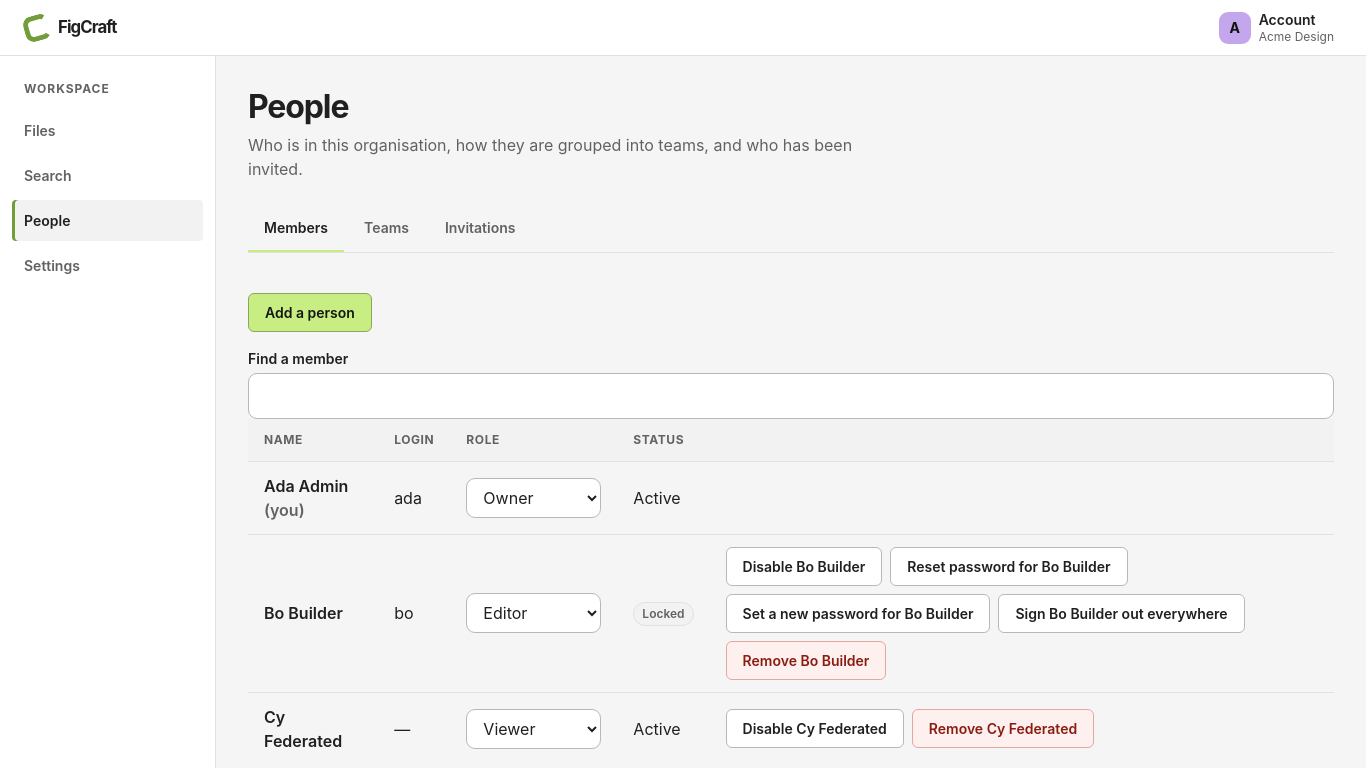
running the team from the browser › adds a person and shows the one-time setup link
This screenshot has width=1366, height=768.
Step 1. Click the button with test id "addperson-open" → coordinates (310, 312), box [248,293,372,332]
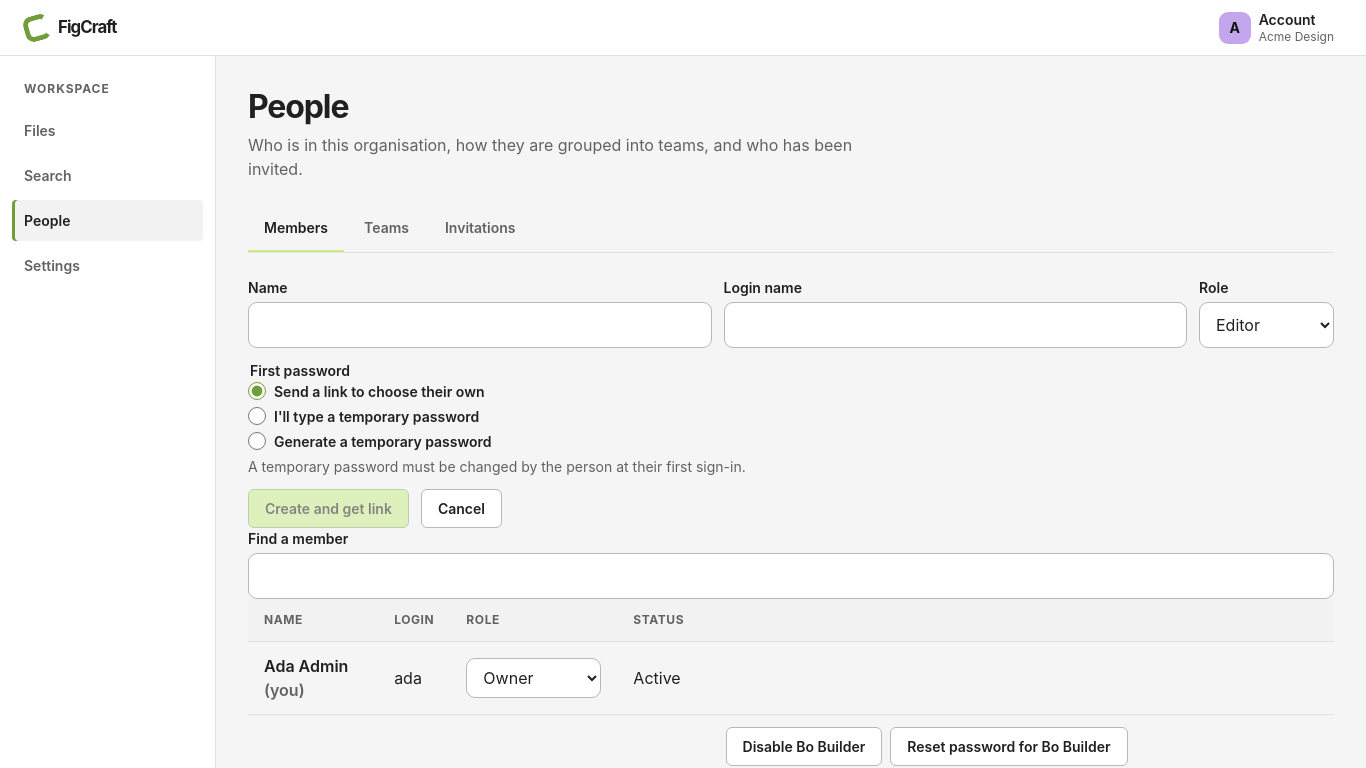
Step 2. Type "Dee Designer" into the field with test id "addperson-name" → coordinates (480, 325), box [248,302,712,348]
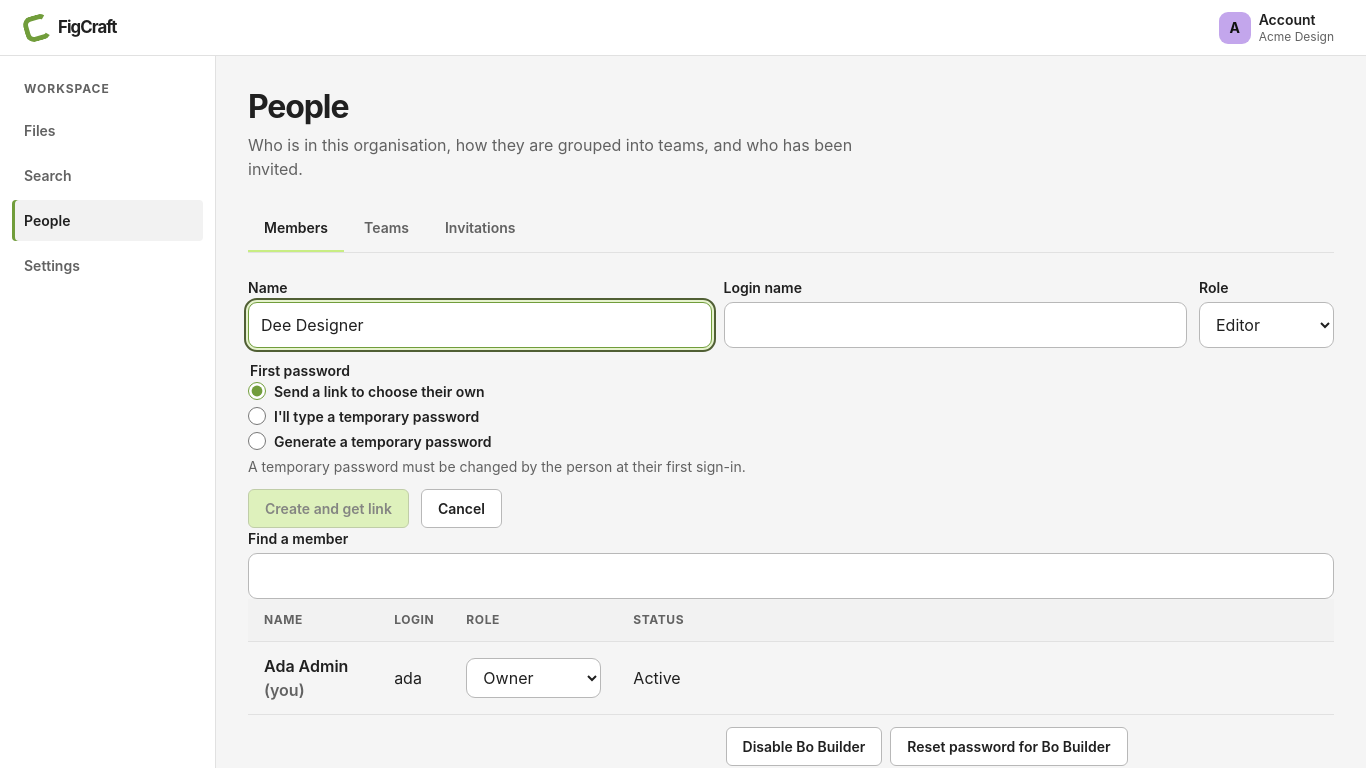
Step 3. Type "dee" into the field with test id "addperson-login" → coordinates (955, 325), box [724,302,1187,348]
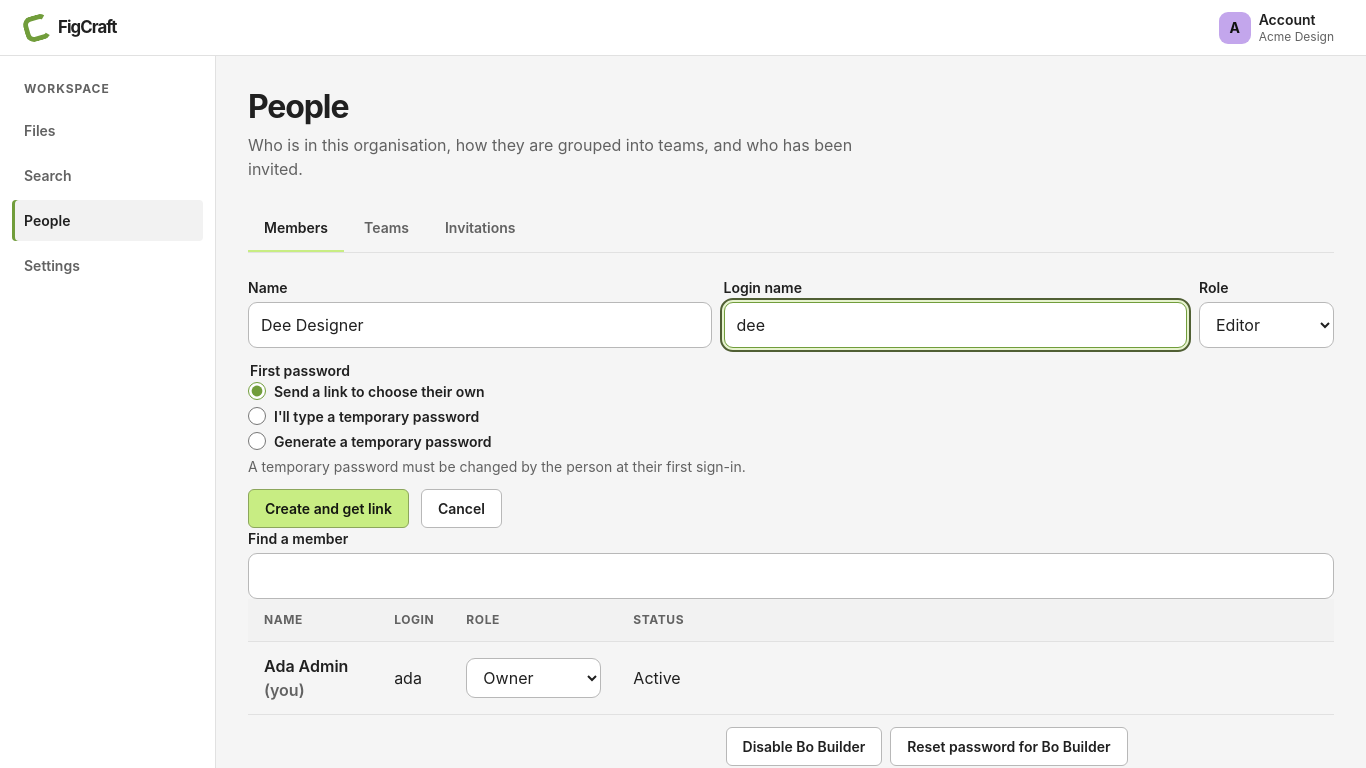
Step 4. Select "Commenter" in the dropdown with test id "addperson-role" → coordinates (1266, 325), box [1199,302,1334,348]
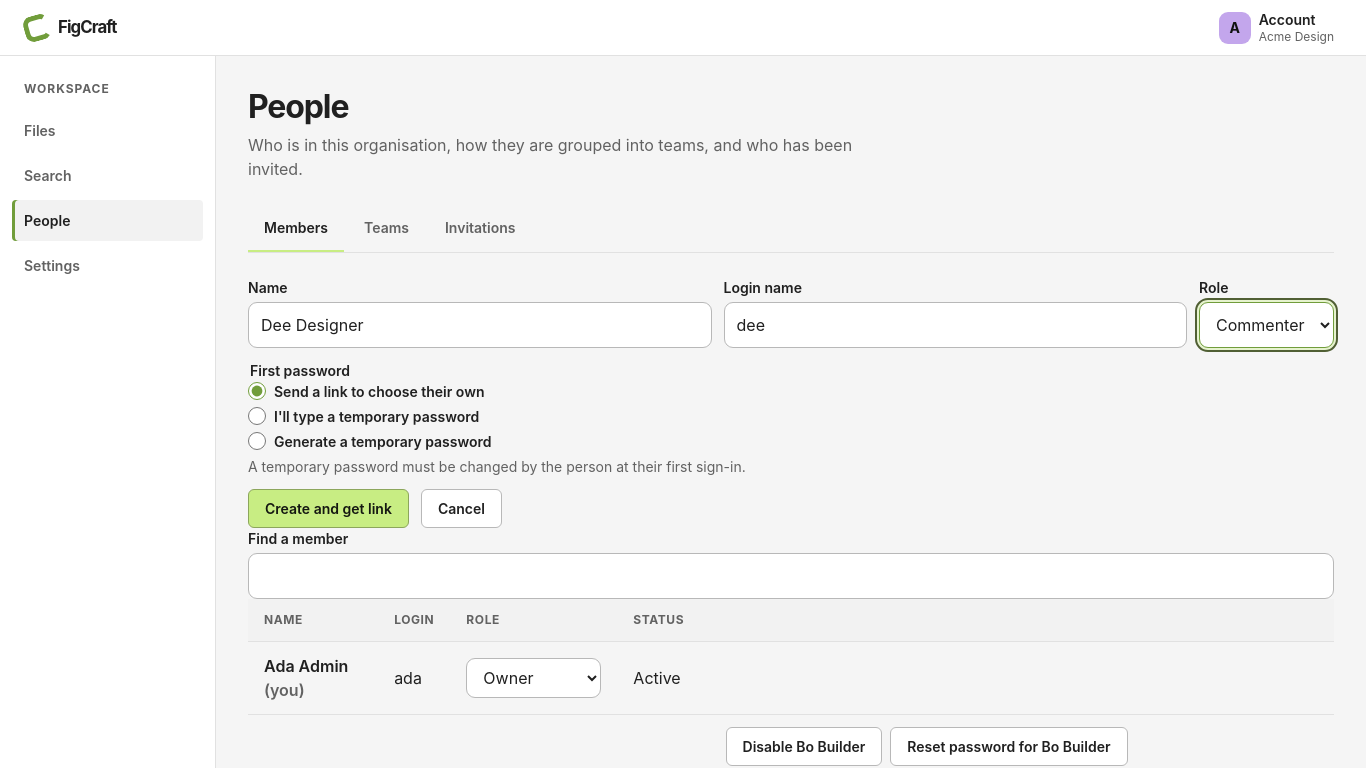
Step 5. Click the button with test id "addperson-submit" → coordinates (328, 508), box [248,489,409,528]
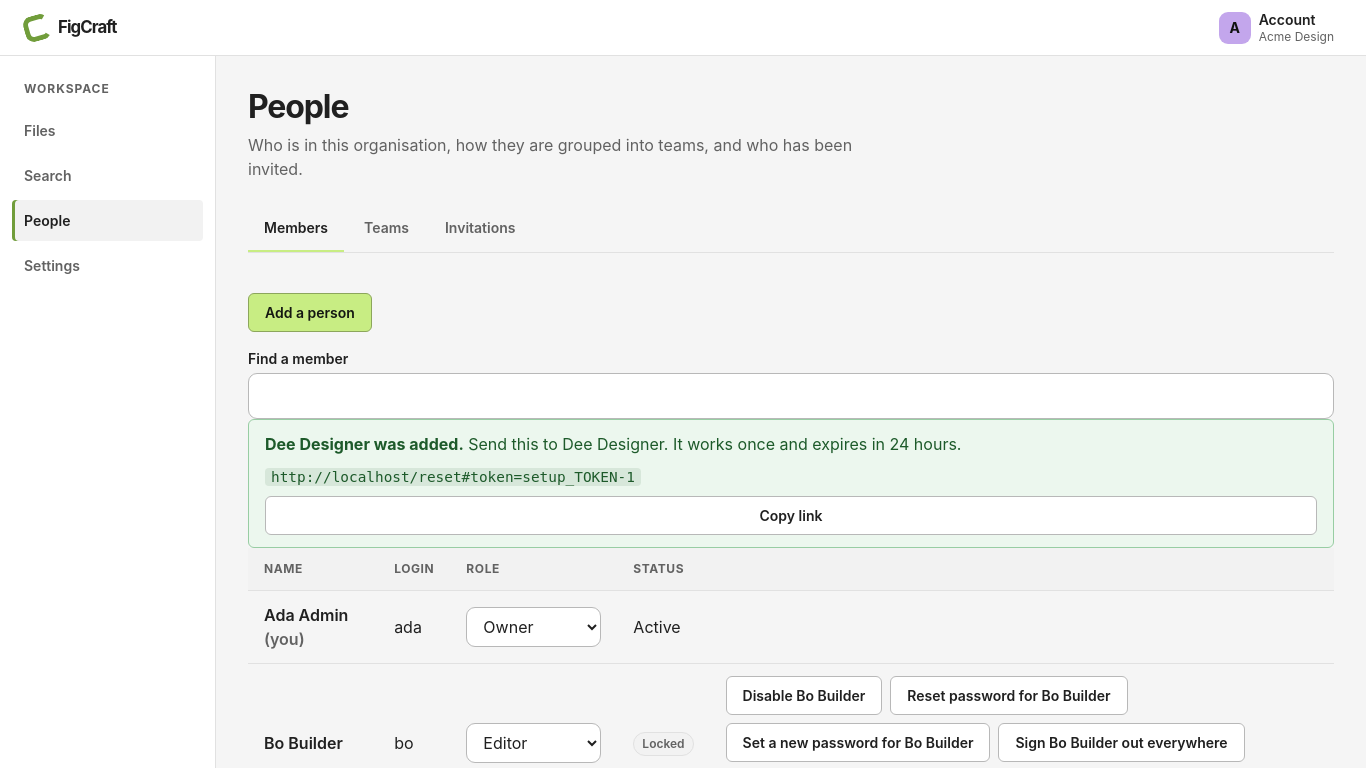
Expected: the message with test id "onetime-link" shows "Dee Designer was added.", [265,434,464,454]
Expected: the message with test id "onetime-link" shows "works once and expires in 24 hours", [468,434,962,454]
Expected: the form with test id "addperson-form" is gone
